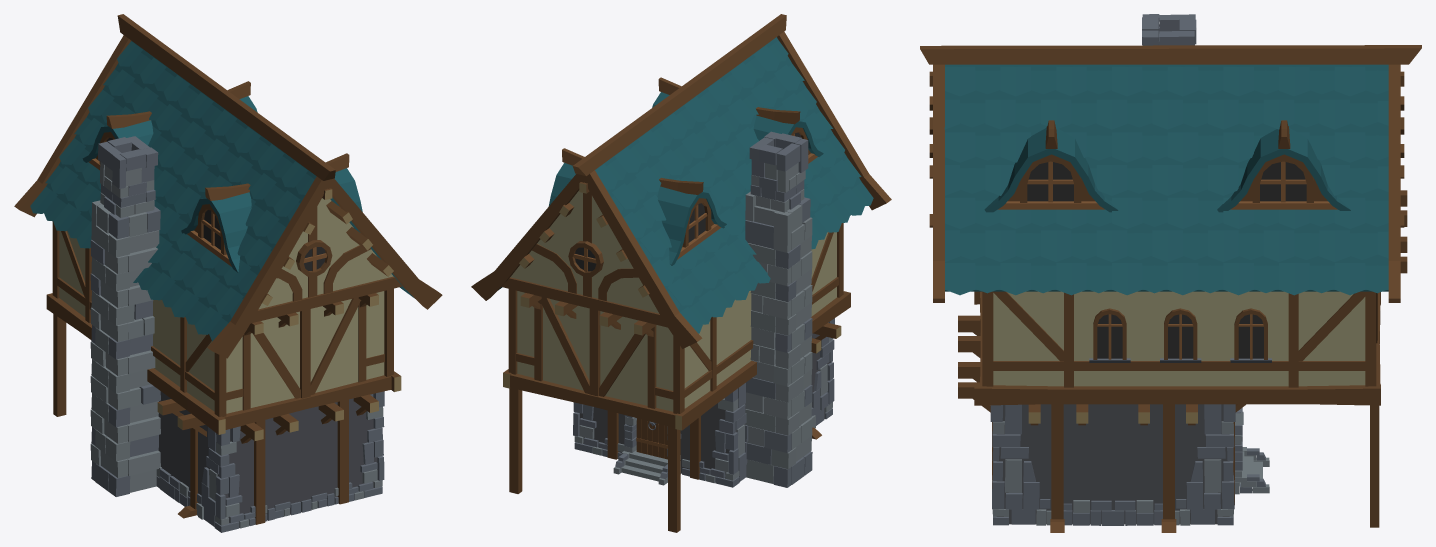
Rendered from house_b.glb.
3 renders of one model, left to right at view 1: azimuth 30°, elevation 25°; view 2: azimuth 150°, elevation 25°; view 3: azimuth 270°, elevation 25°, orthographic. The views are drawn at different scales.
Parts seen in each view (by area): view 1: House_2; view 2: House_2; view 3: House_2.
Boxes of the visible parts, x1,y1,x2,y2 form: House_2: (14, 14, 442, 532); House_2: (471, 14, 891, 532); House_2: (920, 14, 1421, 532).
Size of the model in its own units: 2.22 by 3.25 by 3.42.
